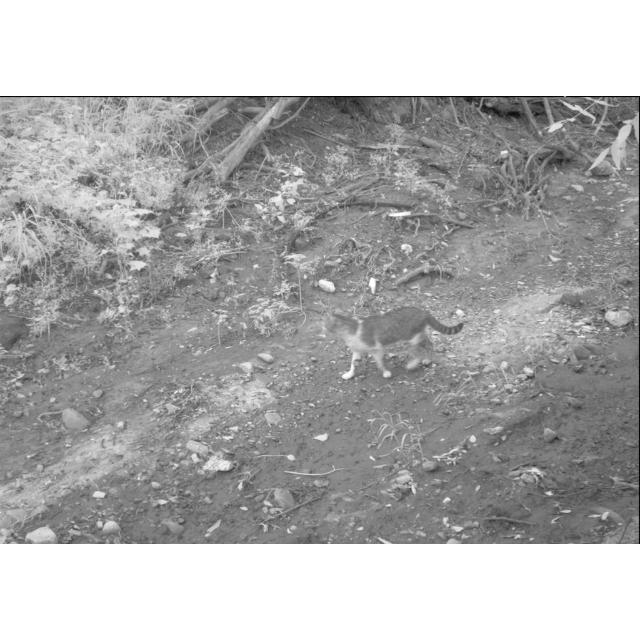animals: (327, 307, 465, 379)
